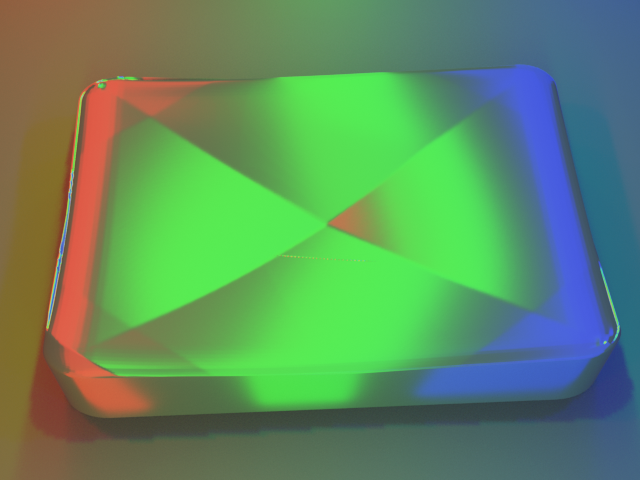scratch: (172, 171, 480, 347)
smash: (0, 0, 639, 479)
